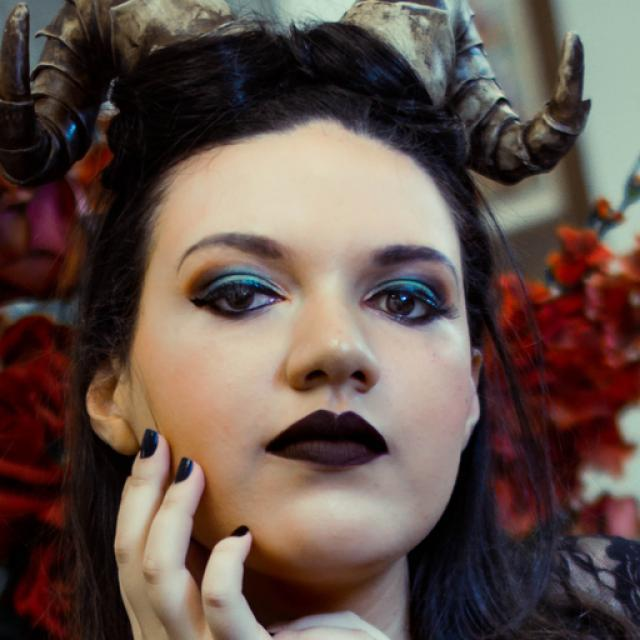neutral: (131, 116, 475, 574)
